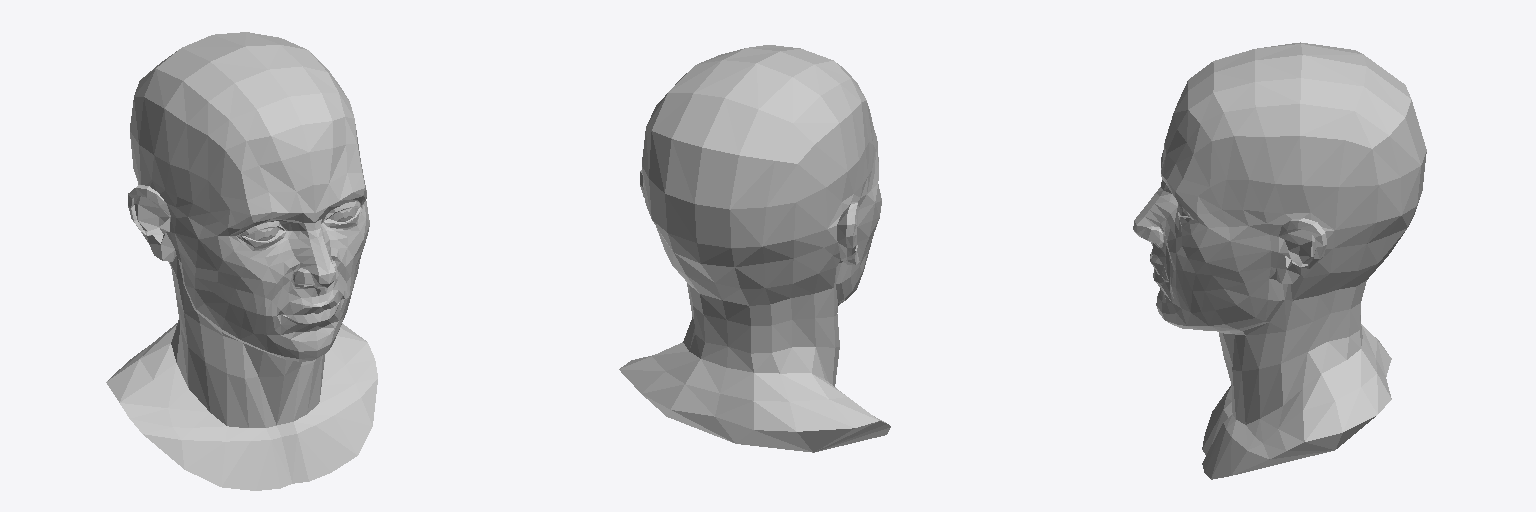
The model's file is based.obj.
3 views of the same model, side by side, from view 1: azimuth 30°, elevation 25°; view 2: azimuth 150°, elevation 25°; view 3: azimuth 270°, elevation 25° (orthographic).
Parts seen in each view (by area): view 1: base; view 2: base; view 3: base.
Part boxes in pixels (bbox=[...]): base: bbox=[106, 32, 377, 490]; base: bbox=[619, 45, 890, 452]; base: bbox=[1133, 42, 1426, 479].
Bounding box in the file's own units: 22.21 × 34.36 × 22.75.